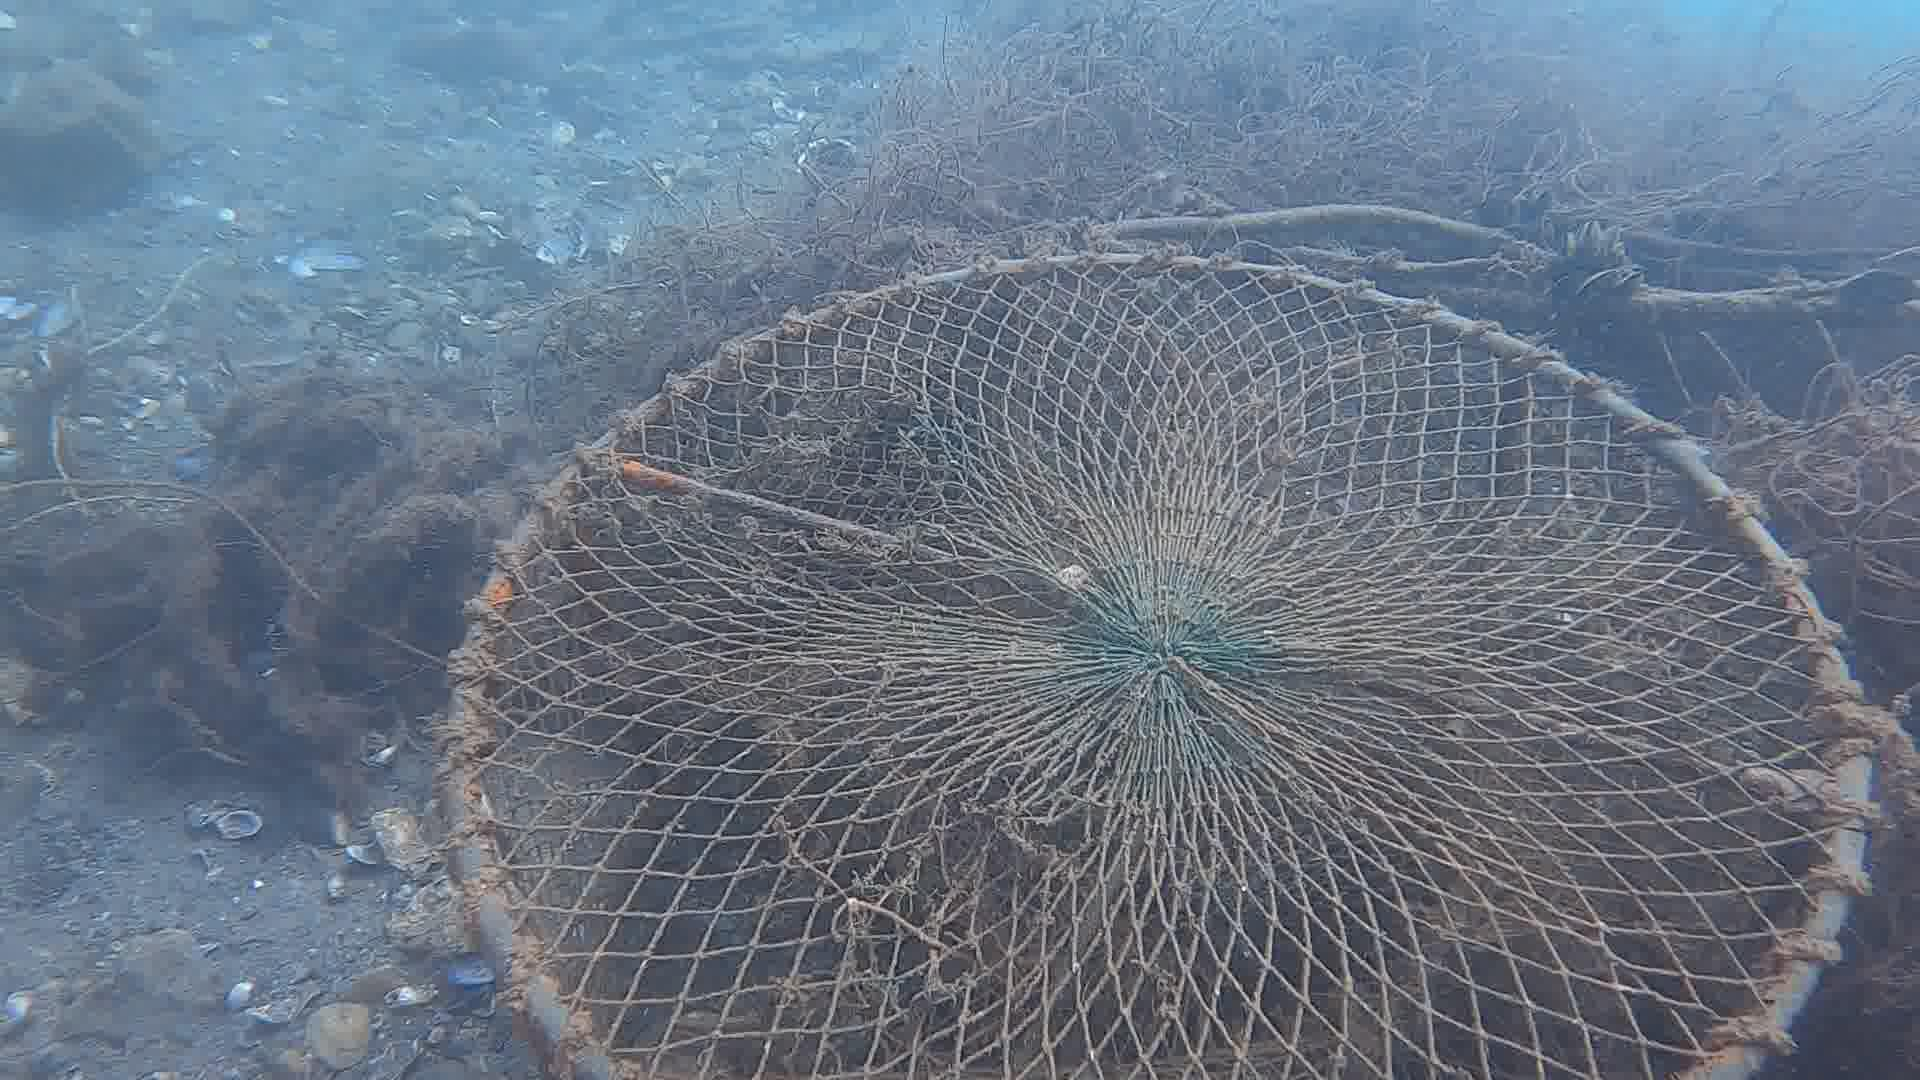circular fish trap: (431, 251, 1875, 1080)
